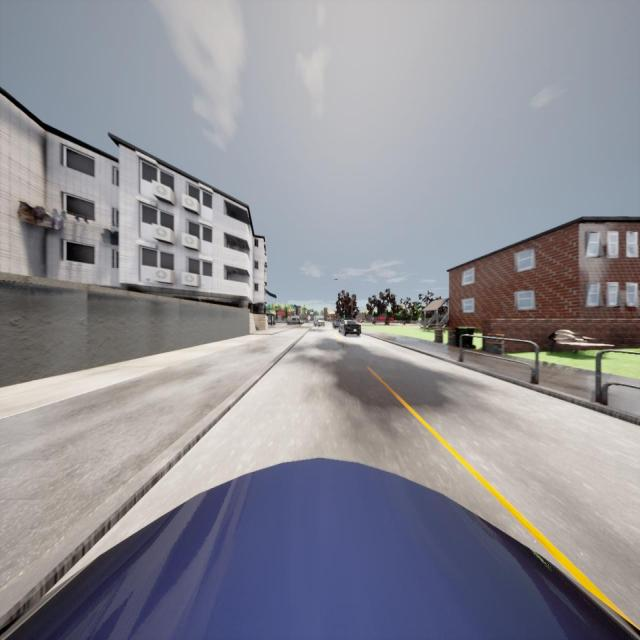Traffic_Signs: (307, 315, 311, 321)
Vehicle: (0, 457, 640, 639), (338, 320, 362, 336), (313, 316, 325, 328), (287, 316, 304, 324), (332, 320, 339, 330)
traffic_light: (343, 312, 345, 318)
